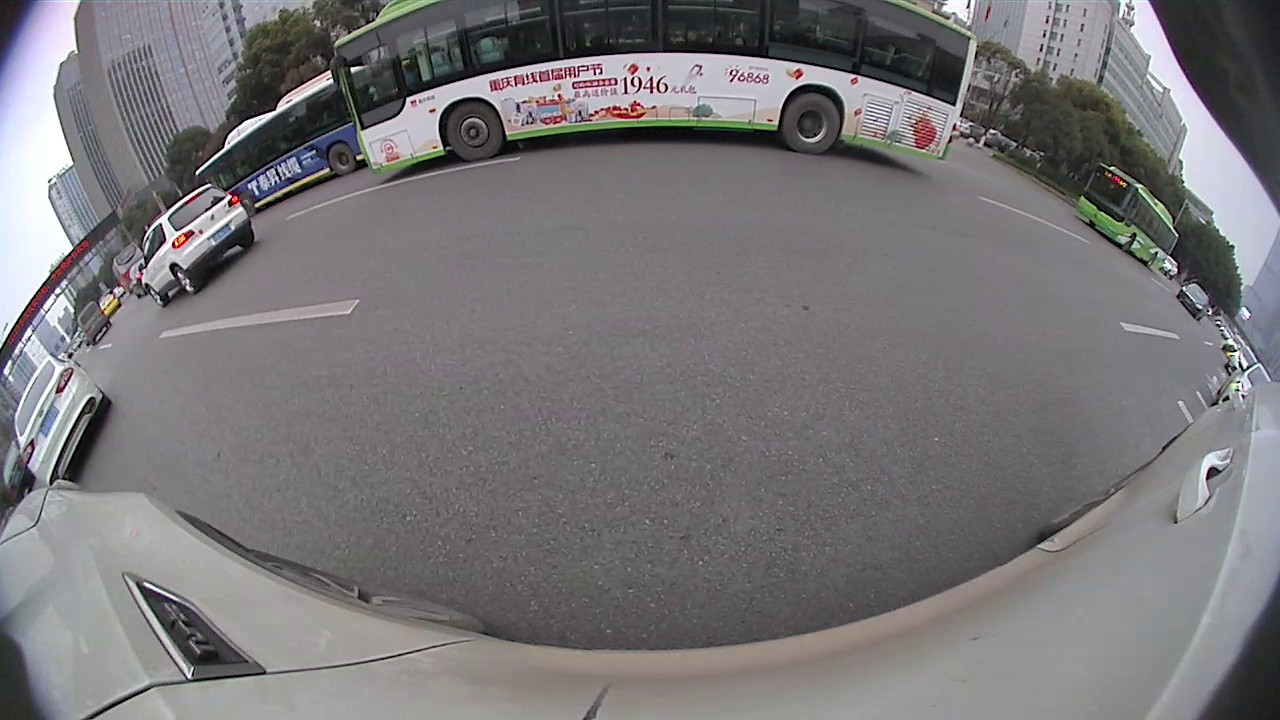bus: (326, 2, 980, 186), (193, 61, 369, 210), (1071, 154, 1184, 276)
car: (136, 183, 256, 308), (7, 349, 113, 484)
front: (443, 102, 505, 162), (172, 265, 198, 298)
rear: (784, 89, 843, 156), (326, 143, 358, 177)
